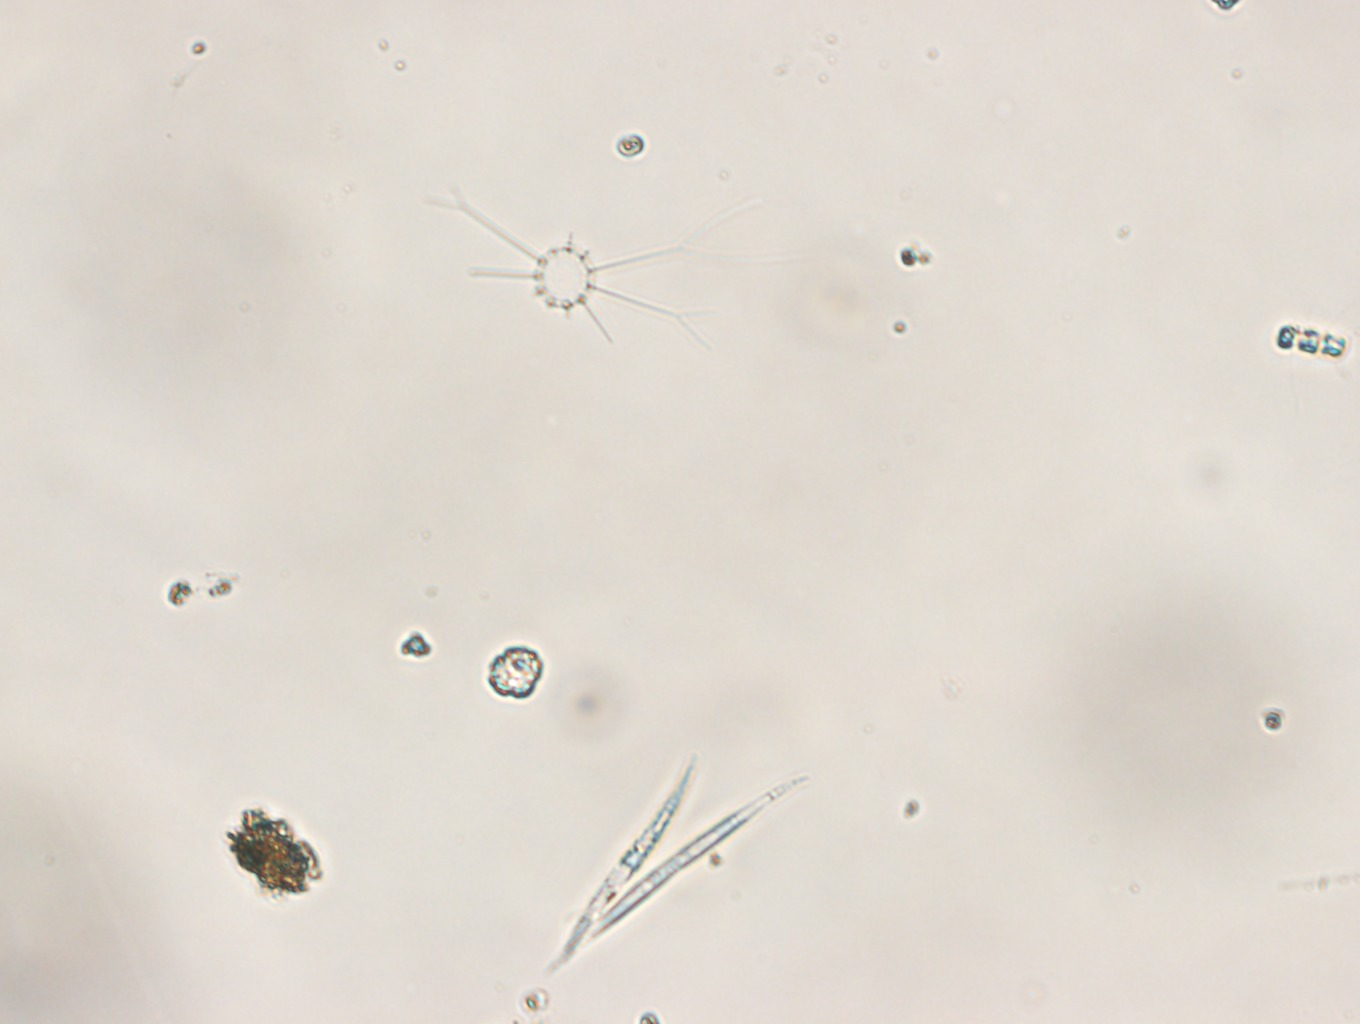bacteriastrum: (425, 167, 738, 381)
navicula: (550, 774, 804, 966), (548, 756, 698, 984)
